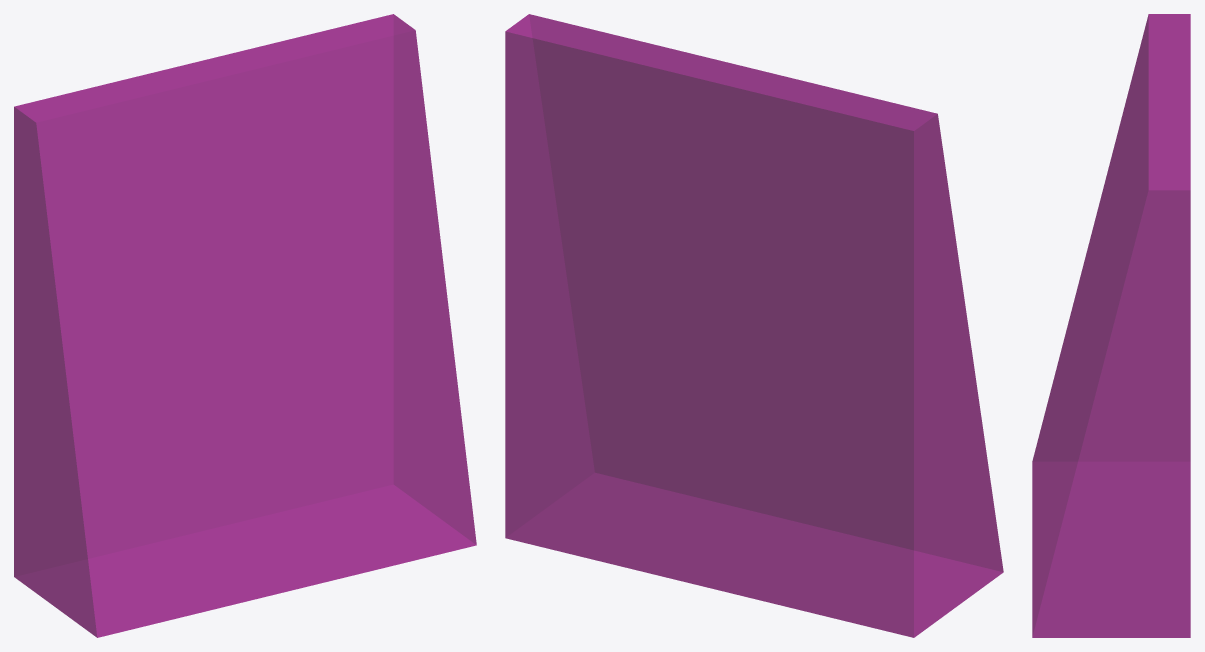
Rendered from SM_Bld_Wall_Temple_Top_02_Collision.fbx.
3 views of the same model, side by side, from view 1: azimuth 30°, elevation 25°; view 2: azimuth 150°, elevation 25°; view 3: azimuth 270°, elevation 25° (orthographic). The views are drawn at different scales.
Visible parts, largest first — view 1: SM_Bld_Wall_Temple_Top_02_Collision; view 2: SM_Bld_Wall_Temple_Top_02_Collision; view 3: SM_Bld_Wall_Temple_Top_02_Collision.
Part boxes in pixels (box(x1,y1,x2,y2)): SM_Bld_Wall_Temple_Top_02_Collision: box(14, 14, 476, 637); SM_Bld_Wall_Temple_Top_02_Collision: box(505, 14, 1003, 637); SM_Bld_Wall_Temple_Top_02_Collision: box(1032, 14, 1190, 637).
Bounding box in the file's own units: 509 × 603 × 193.
